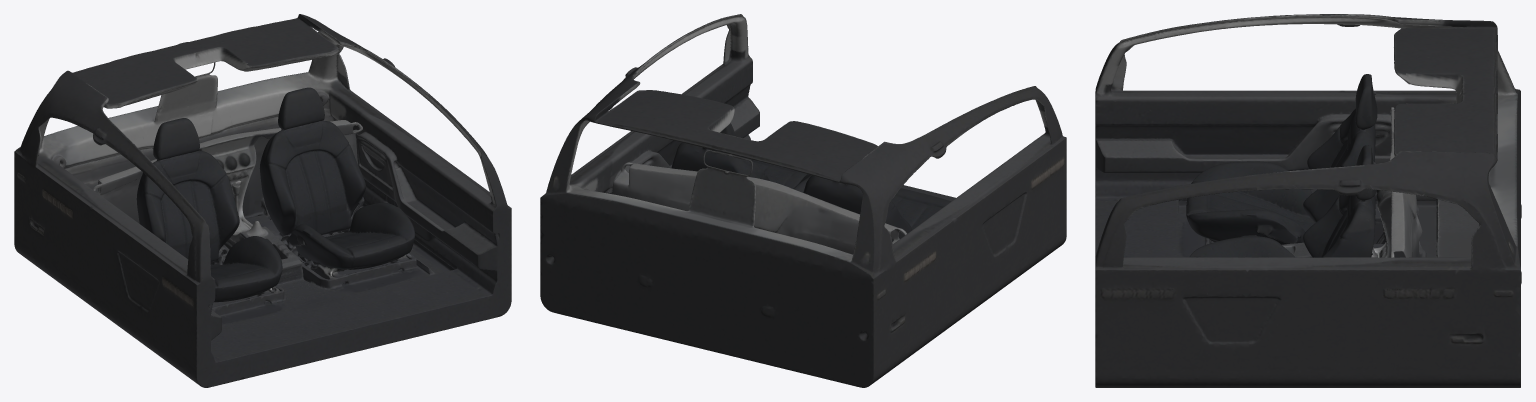
File: kaze-r01-interior.glb
3 renders of one model, left to right at view 1: azimuth 30°, elevation 25°; view 2: azimuth 150°, elevation 25°; view 3: azimuth 270°, elevation 25°, orthographic. The views are drawn at different scales.
Size of the model in its own units: 1.9 by 1.08 by 1.9.
1 material, 1 textured.
